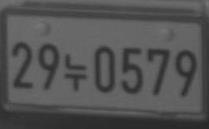0: (93, 46, 116, 92)
2: (11, 40, 34, 89)
5: (120, 46, 143, 95)
7: (147, 47, 171, 95)
9: (174, 49, 198, 96), (37, 43, 60, 89)
누: (63, 52, 87, 92)
